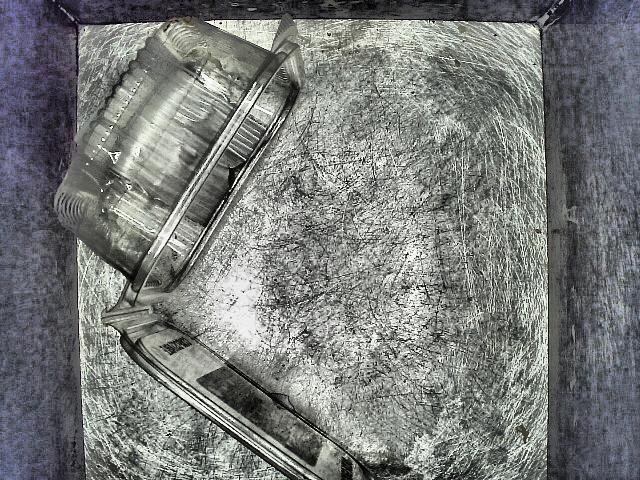Plastic: (54, 14, 289, 281), (92, 302, 380, 478)
